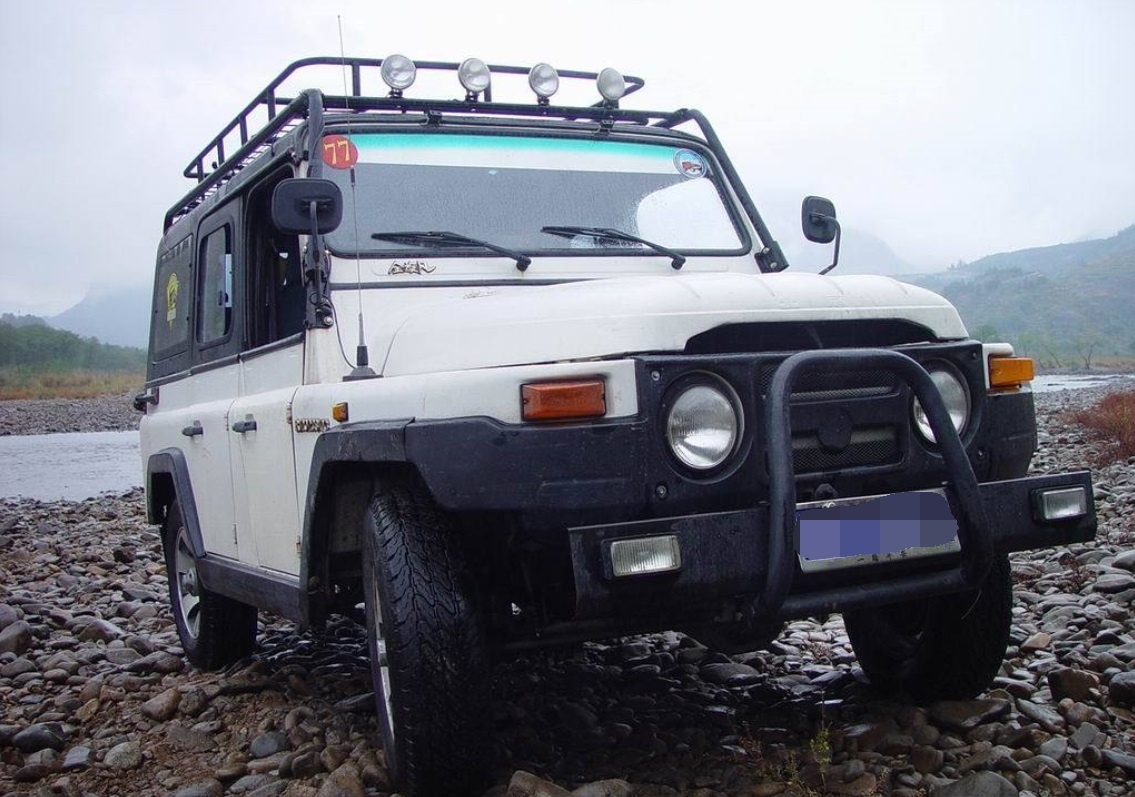jeep: (124, 35, 1075, 770)
